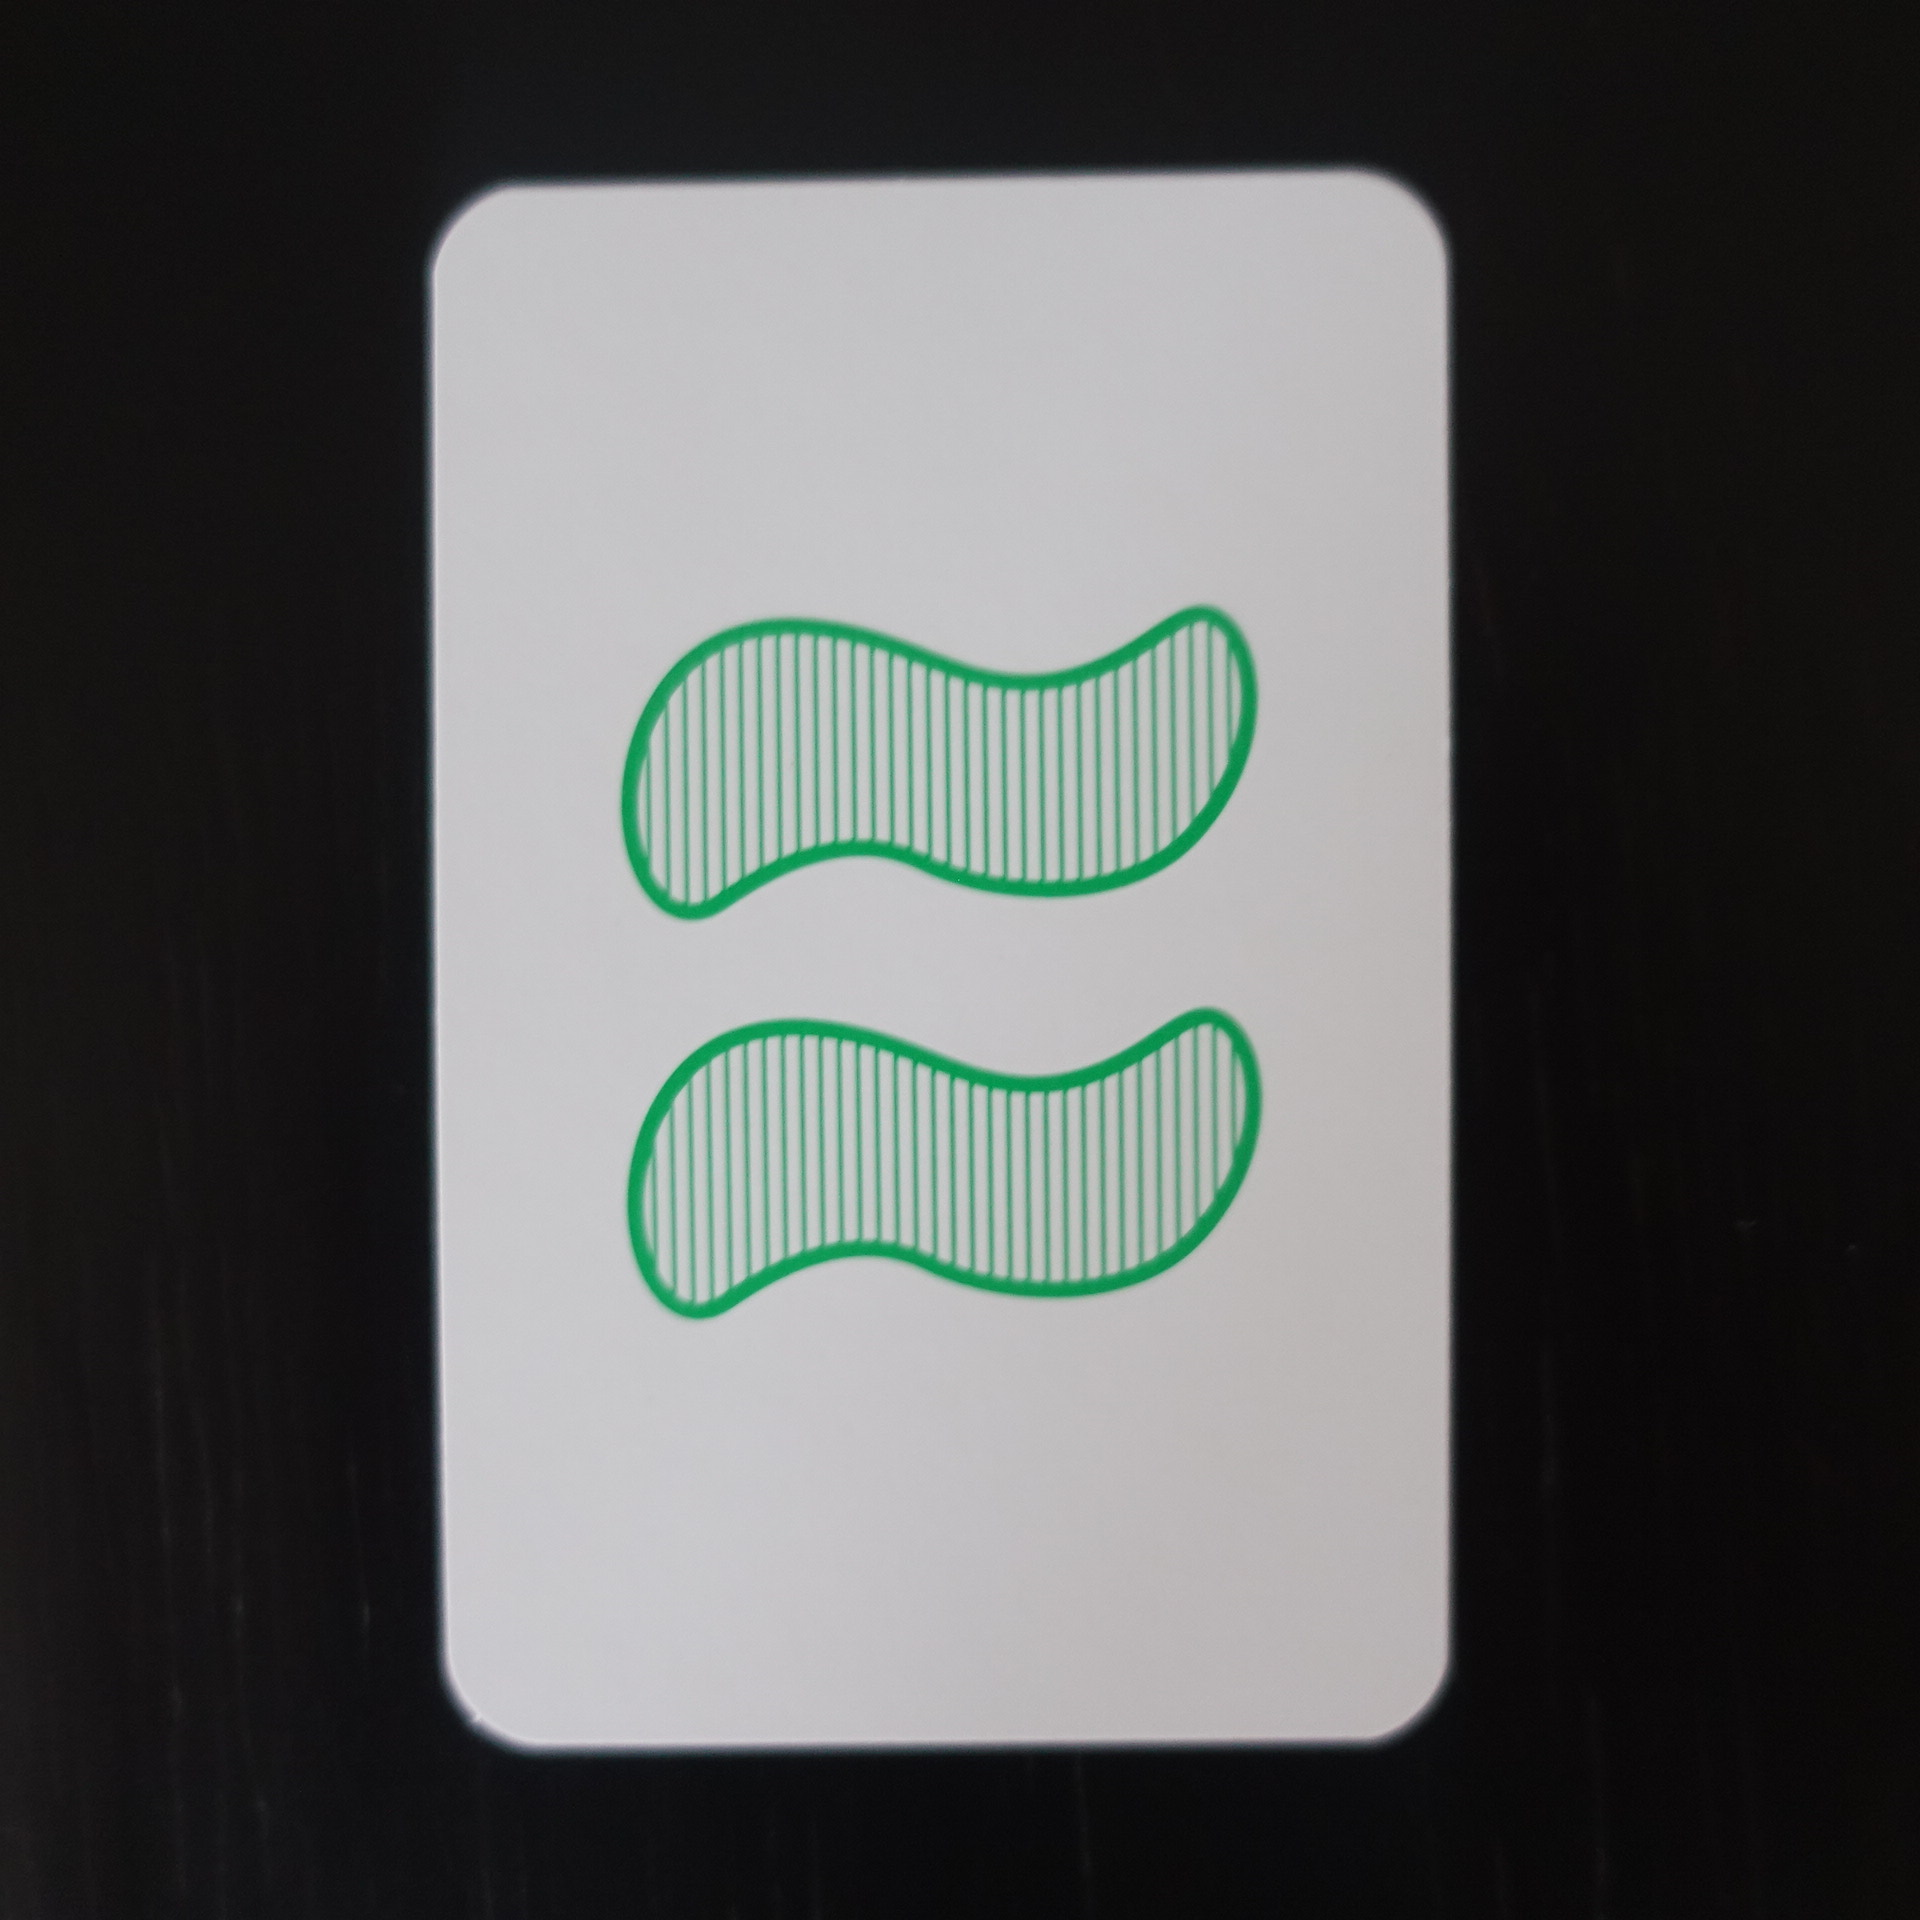c-2-f-d-r: (401, 137, 1489, 1772)
